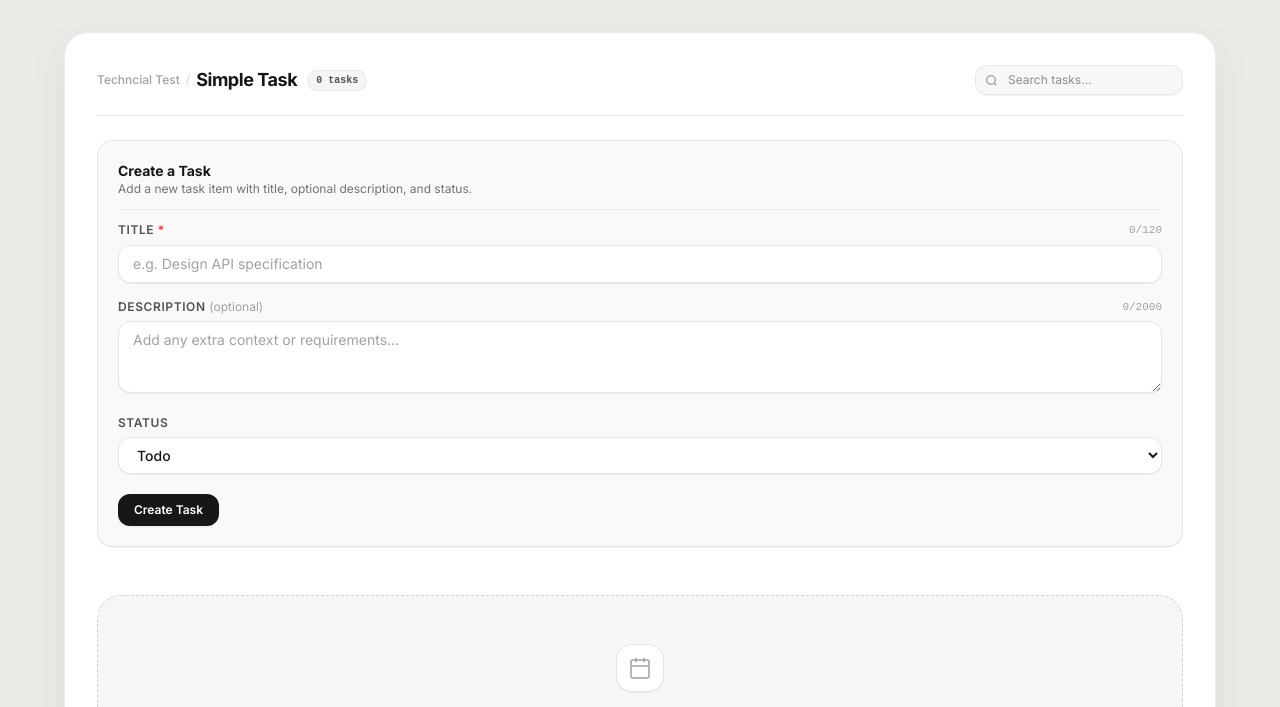
Test: Task Tracker App Component Tests (with Axios) › creates a task via Axios POST and displays it in list without reload
Step 1. Type "New Integration Test Task" into the field labelled "Title *" → (640, 264), box [118, 244, 1162, 282]
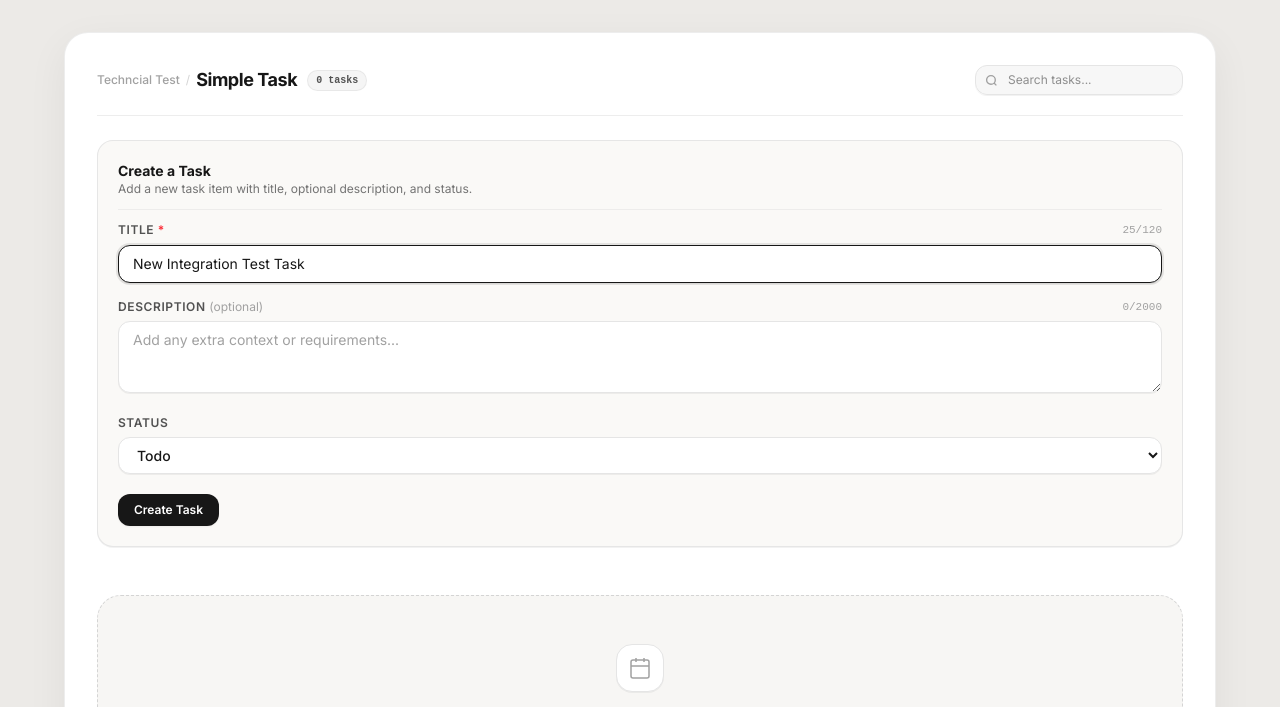
Step 2. Type "Created from form" into the text box labelled "Description (optional)" → (640, 357), box [118, 321, 1162, 393]
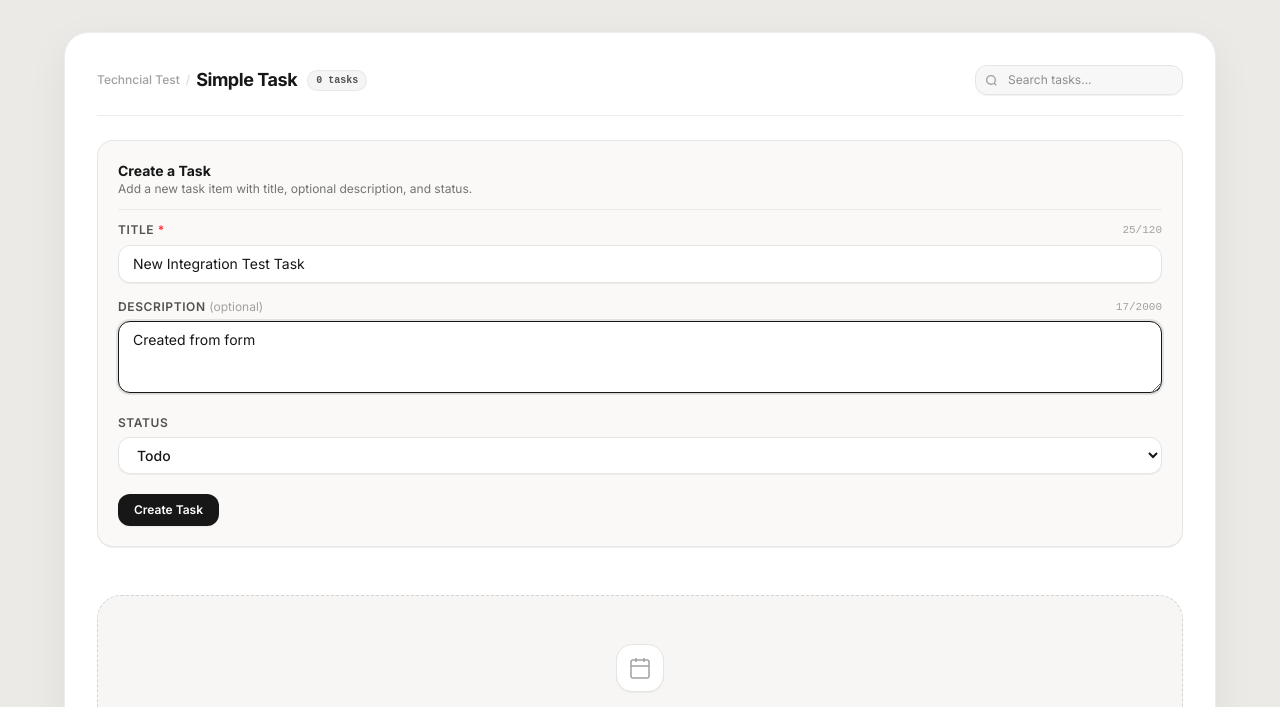
Step 3. Click the button "Create Task" → (168, 510), box [118, 494, 219, 526]
(page scrolled)
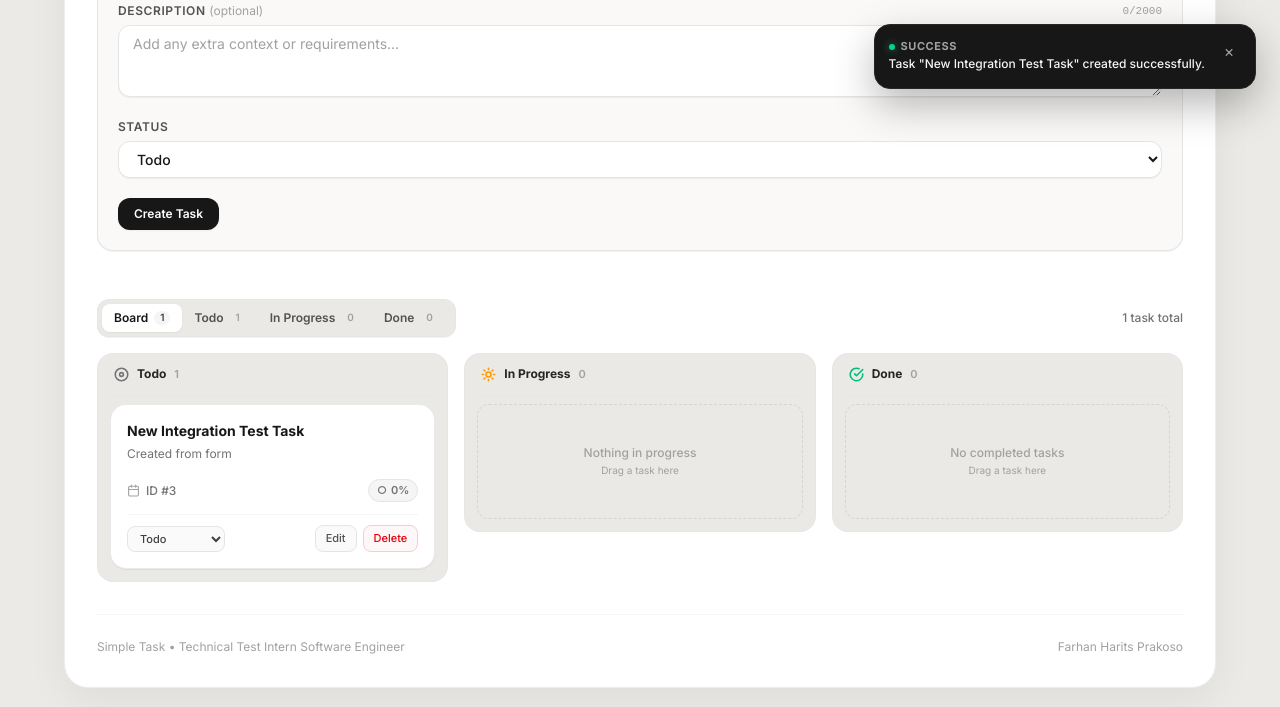
Now the heading "New Integration Test Task" is shown, box [127, 422, 304, 438]
Now the text "Created from form" is shown, box [127, 446, 232, 461]
